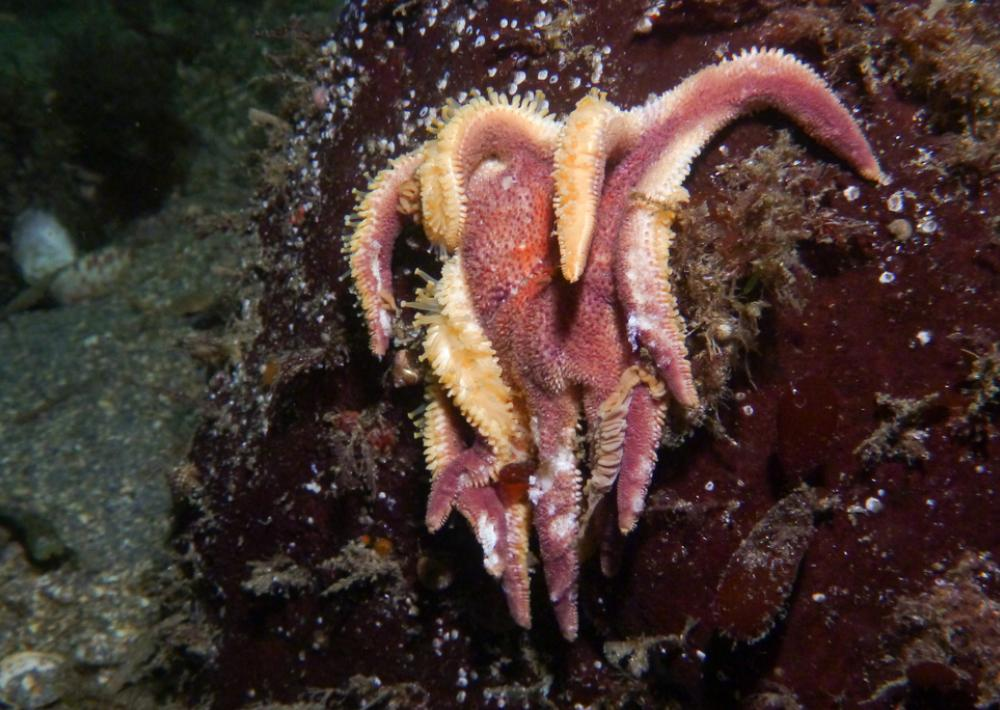starfish: (333, 68, 879, 609)
